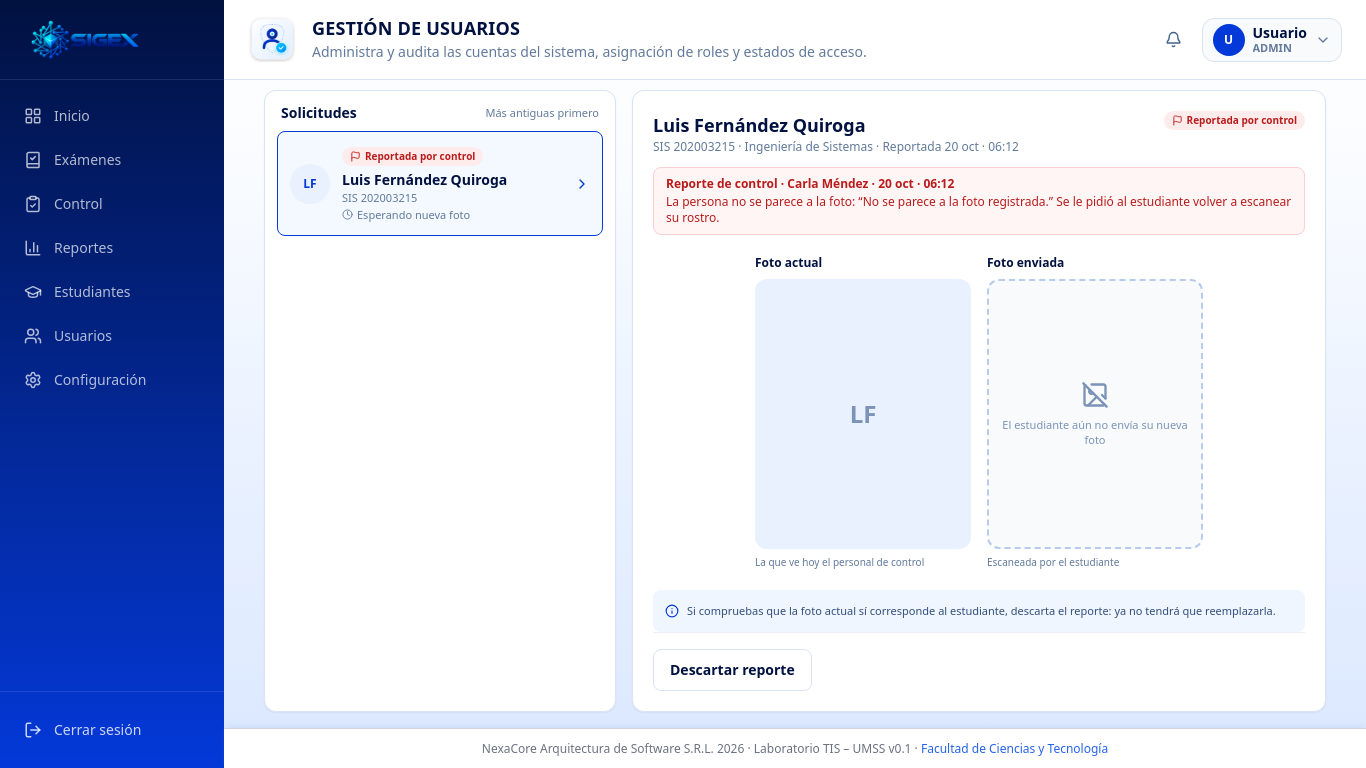
RevisionFotosPage (CTA-02) › una foto reportada sin foto nueva solo se puede descartar
(page scrolled)
Expected: the text "El estudiante aún no envía su nueva foto" is shown, [1001, 417, 1189, 447]
Expected: the text "Reporte de control · Carla Méndez · 20 oct · 06:12" is shown, [666, 175, 954, 192]
What coordinates should you click on to do the following:
click the button "Descartar reporte"
I would click on:
 (732, 670)
Its box is [653, 649, 812, 691].
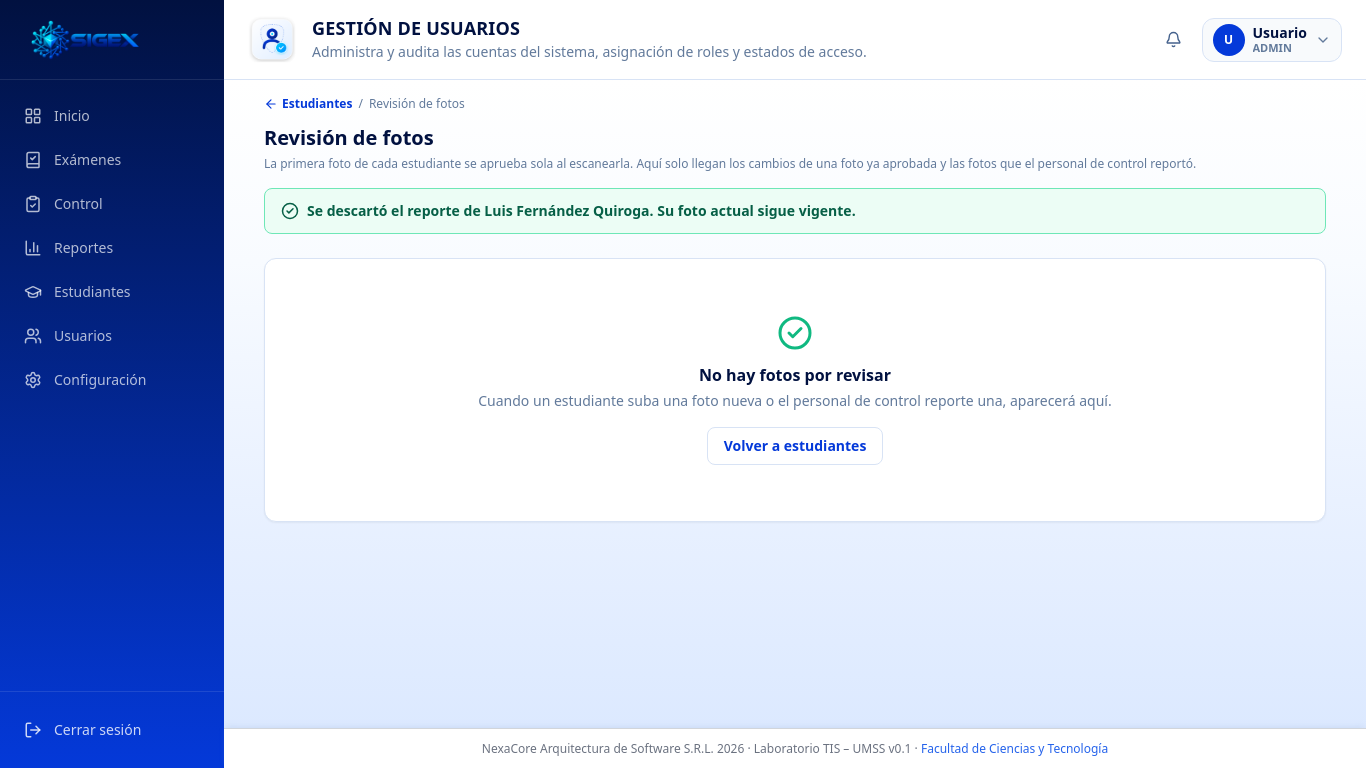
Expected: the text "No hay fotos por revisar" is shown, [699, 364, 891, 386]
